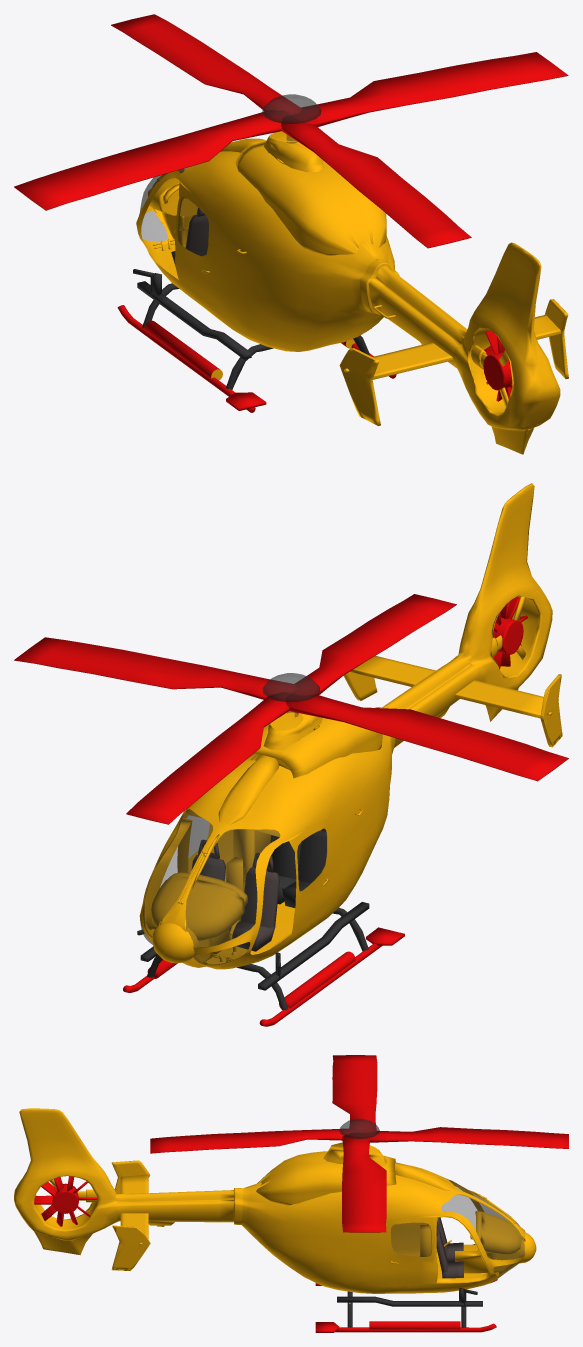
The model's file is Chopper.fbx.
The picture shows the model from 3 angles, top to bottom: view 1: azimuth 30°, elevation 25°; view 2: azimuth 150°, elevation 25°; view 3: azimuth 270°, elevation 25°; orthographic projection. The views are drawn at different scales.
Parts seen in each view (by area): view 1: chassis, chassis.001; view 2: chassis, chassis.001; view 3: chassis, chassis.001.
Boxes of the visible parts, x1,y1,x2,y2 form: chassis: [117, 94, 568, 454]; chassis.001: [14, 14, 568, 248]; chassis: [123, 483, 562, 1026]; chassis.001: [14, 594, 568, 824]; chassis: [14, 1108, 536, 1332]; chassis.001: [150, 1055, 568, 1232].
Bounding box in the file's own units: 733 × 388 × 973.
